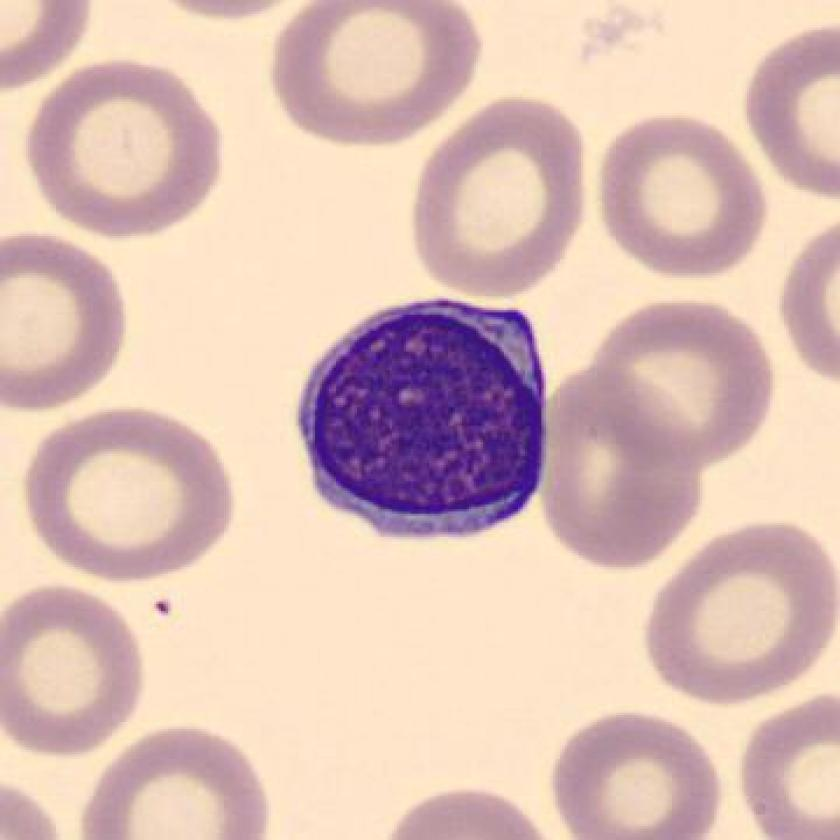lymphocyte: (274, 288, 570, 561)
